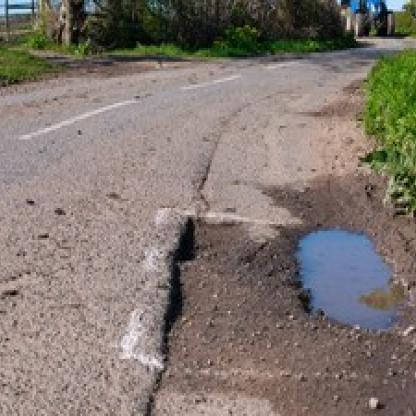pothole: (284, 206, 416, 343)
